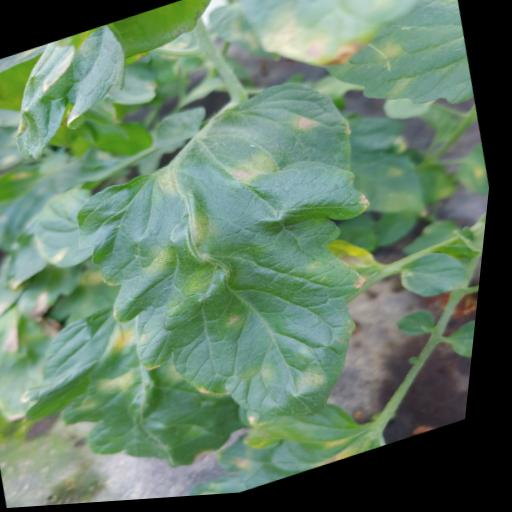Leaf Mold: (38, 59, 440, 485)
